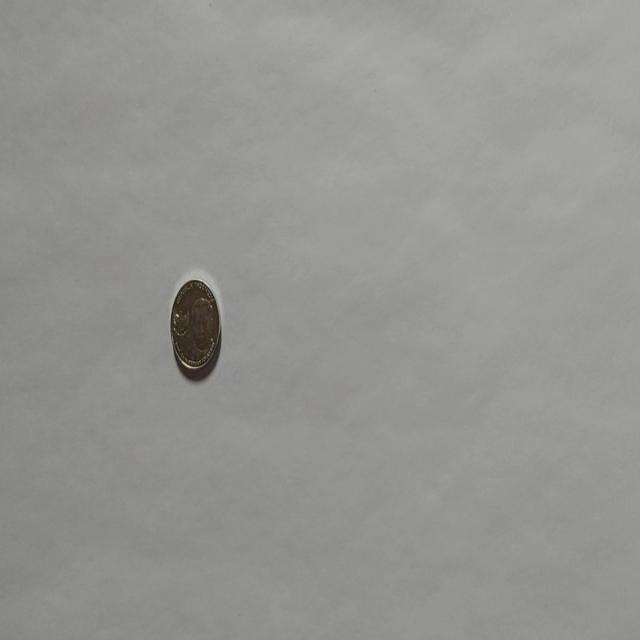seratus rupiah: (169, 278, 221, 374)
